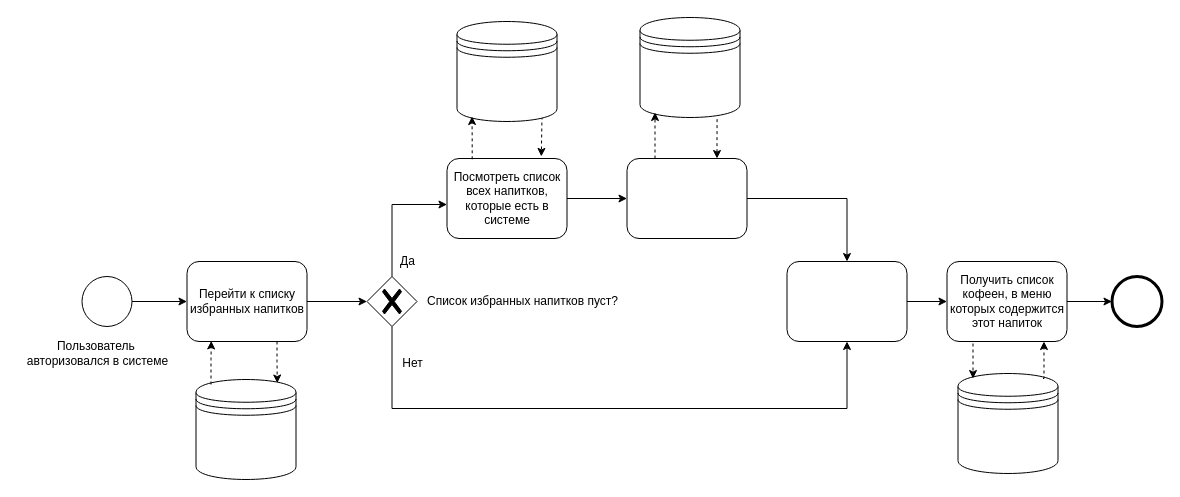
Image size: 1180x497. Some labels were removed from this diagram. The shapes that lost their labels are listed below. From the top down, each one's box as (x1, y1, x2, y2) in pixels, then its label:
(626, 158, 747, 238): Добавить напитки в список избранных
(786, 260, 907, 342): Перейти к напитку из списка избранных напитков
